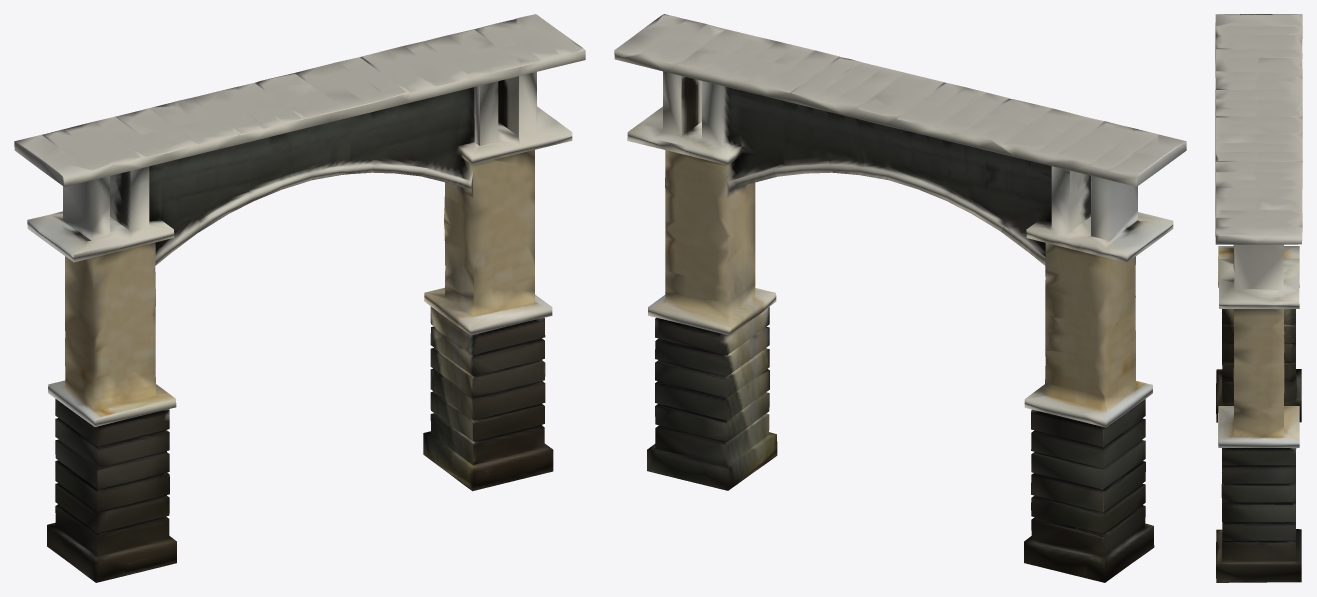
Rendered from gapura.glb.
3 views of the same model, side by side, from view 1: azimuth 30°, elevation 25°; view 2: azimuth 150°, elevation 25°; view 3: azimuth 270°, elevation 25° (orthographic). The views are drawn at different scales.
Visible parts, largest first — view 1: tripo_node_81b69879; view 2: tripo_node_81b69879; view 3: tripo_node_81b69879.
Part boxes in pixels (x1,y1,x2,y2): tripo_node_81b69879: (14, 14, 585, 582); tripo_node_81b69879: (614, 14, 1186, 582); tripo_node_81b69879: (1215, 14, 1302, 582).
Size of the model in its own units: 99.97 by 75.8 by 16.63.
Materials: 1 (1 with a texture image).
